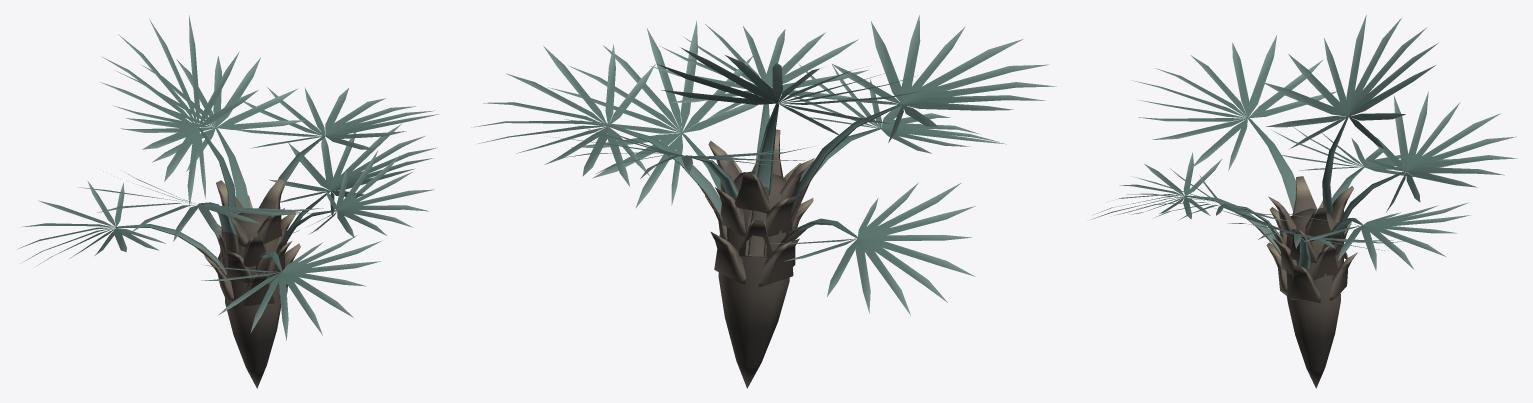
The model's file is trees-palms-ferns-blue-fan-palm_v1.glb.
3 views of the same model, side by side, from view 1: azimuth 30°, elevation 25°; view 2: azimuth 150°, elevation 25°; view 3: azimuth 270°, elevation 25° (orthographic). The views are drawn at different scales.
Parts seen in each view (by area): view 1: Blue Fan Palm_v1; view 2: Blue Fan Palm_v1; view 3: Blue Fan Palm_v1.
Boxes of the visible parts, box(x1,y1,x2,y2) form: Blue Fan Palm_v1: box(17, 15, 439, 388); Blue Fan Palm_v1: box(471, 15, 1056, 388); Blue Fan Palm_v1: box(1091, 15, 1517, 388).
Size of the model in its own units: 3 by 2.41 by 2.9.
